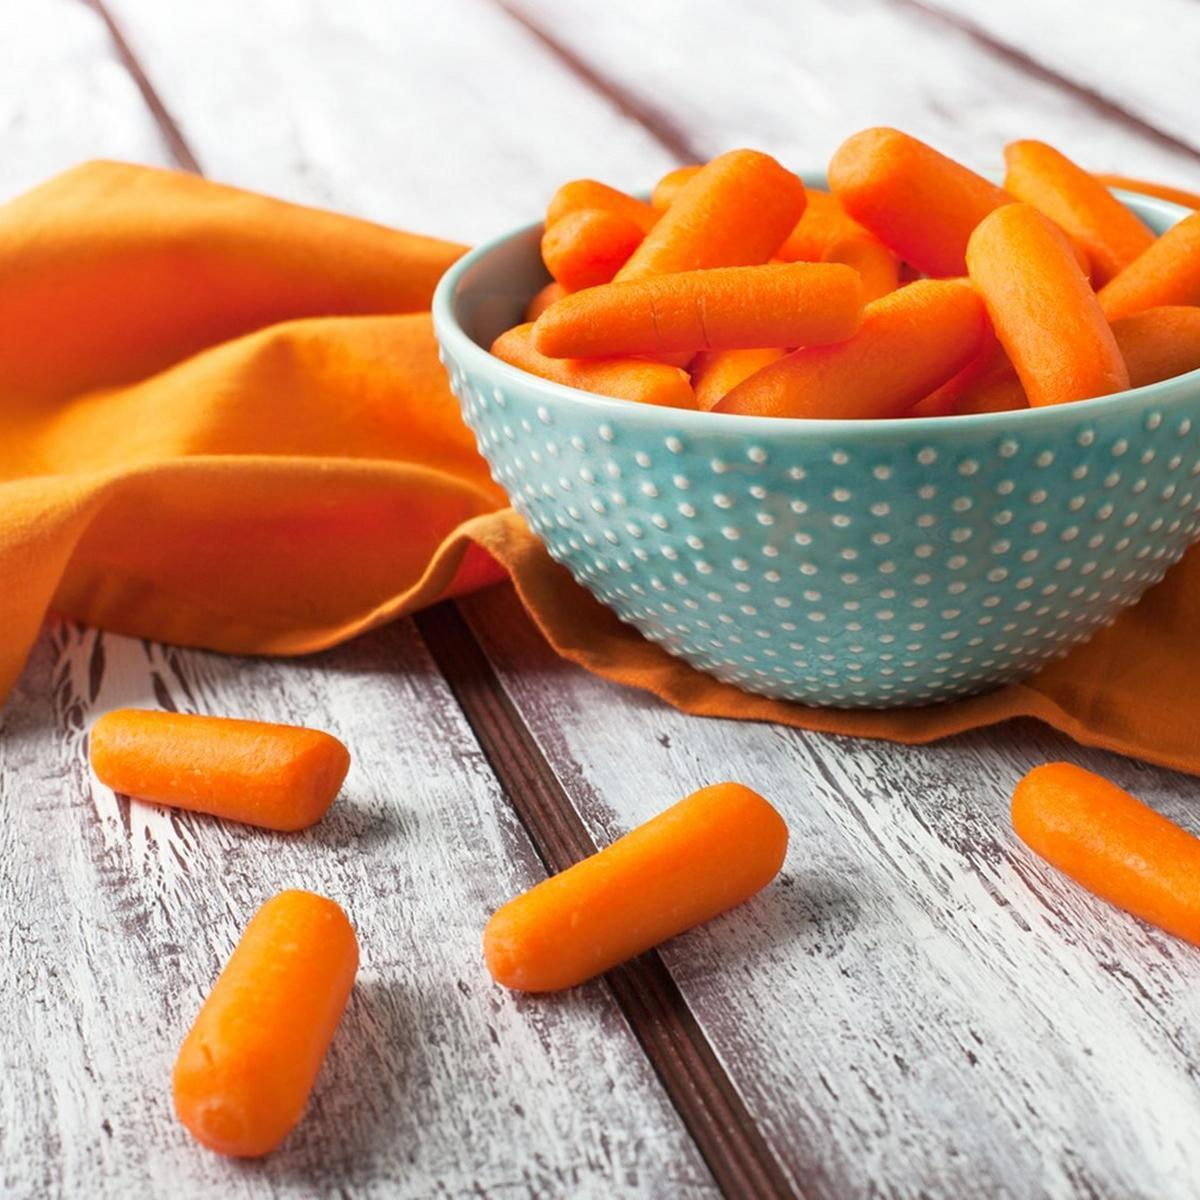carrot: (581, 166, 1178, 380), (471, 786, 816, 1036), (187, 890, 376, 1162), (993, 756, 1200, 966), (553, 260, 870, 396), (73, 698, 364, 834), (985, 218, 1122, 390)
